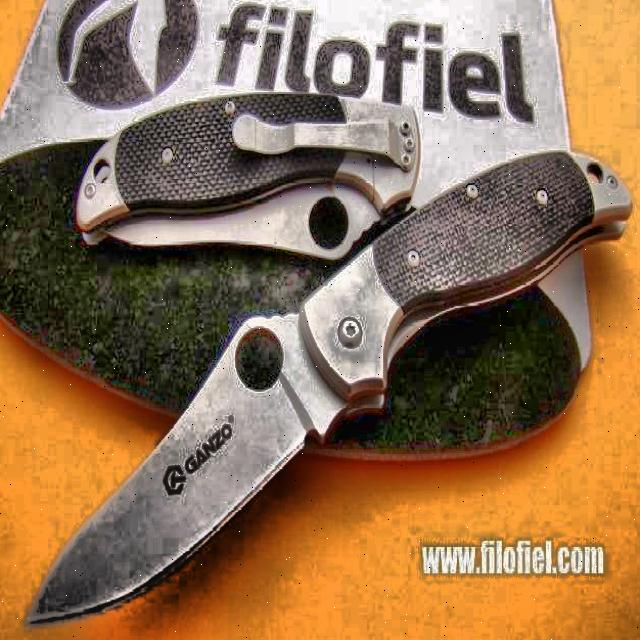knife: (27, 148, 632, 628)
